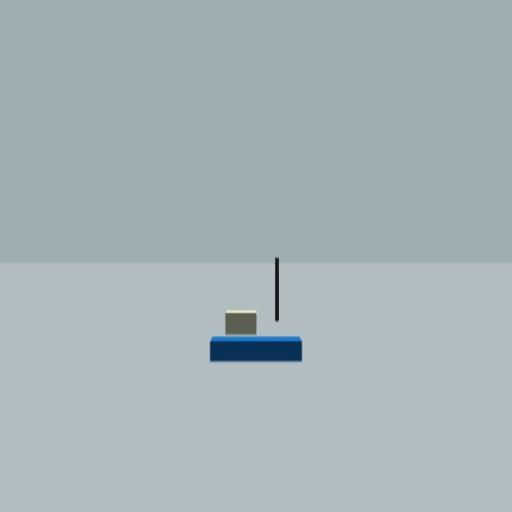fishing_boat: (210, 256, 306, 366)
